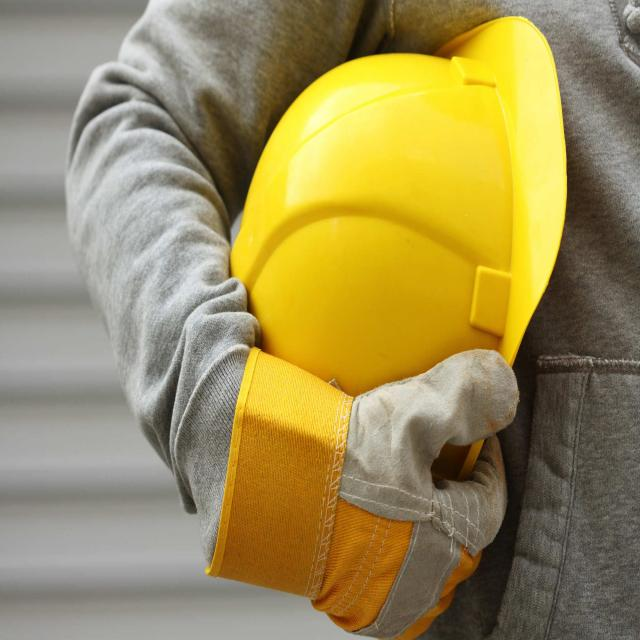helmet: (228, 9, 568, 422)
